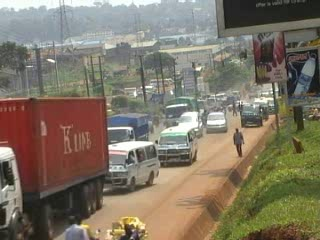Car: (175, 107, 203, 137), (204, 111, 231, 134), (225, 101, 250, 113)
Motorcycle: (78, 225, 103, 237), (200, 112, 208, 128), (151, 115, 160, 129)
